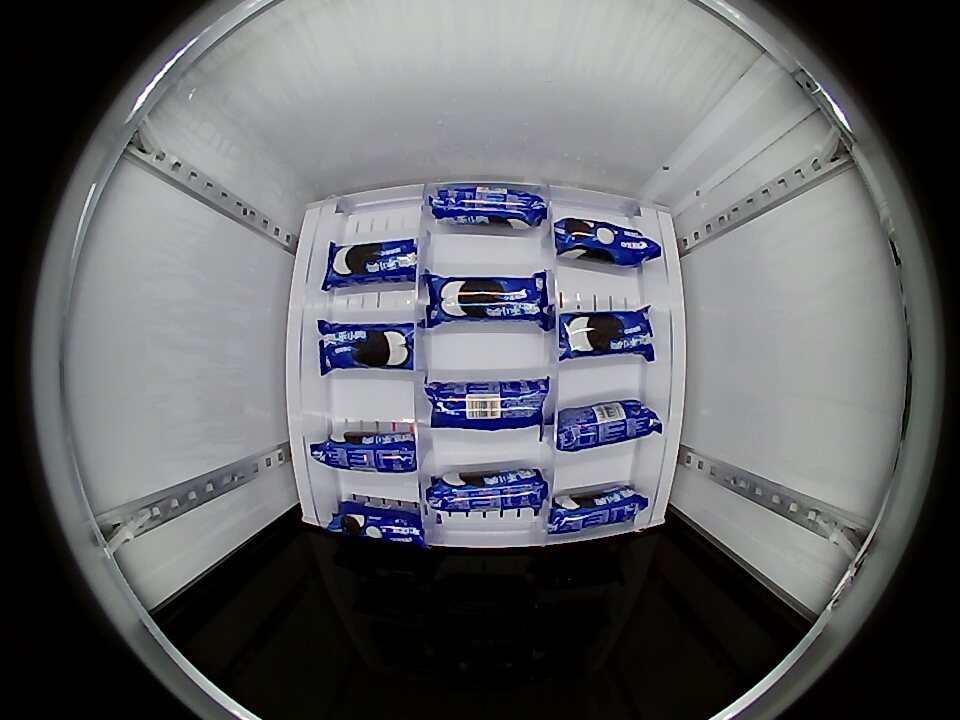aoliao: (427, 379, 552, 430), (430, 273, 549, 324), (547, 217, 656, 270), (323, 235, 422, 288), (553, 401, 657, 451), (318, 320, 417, 372), (425, 470, 544, 513), (431, 188, 549, 229), (315, 433, 420, 479), (335, 497, 428, 546), (557, 309, 654, 355), (545, 489, 640, 534)
